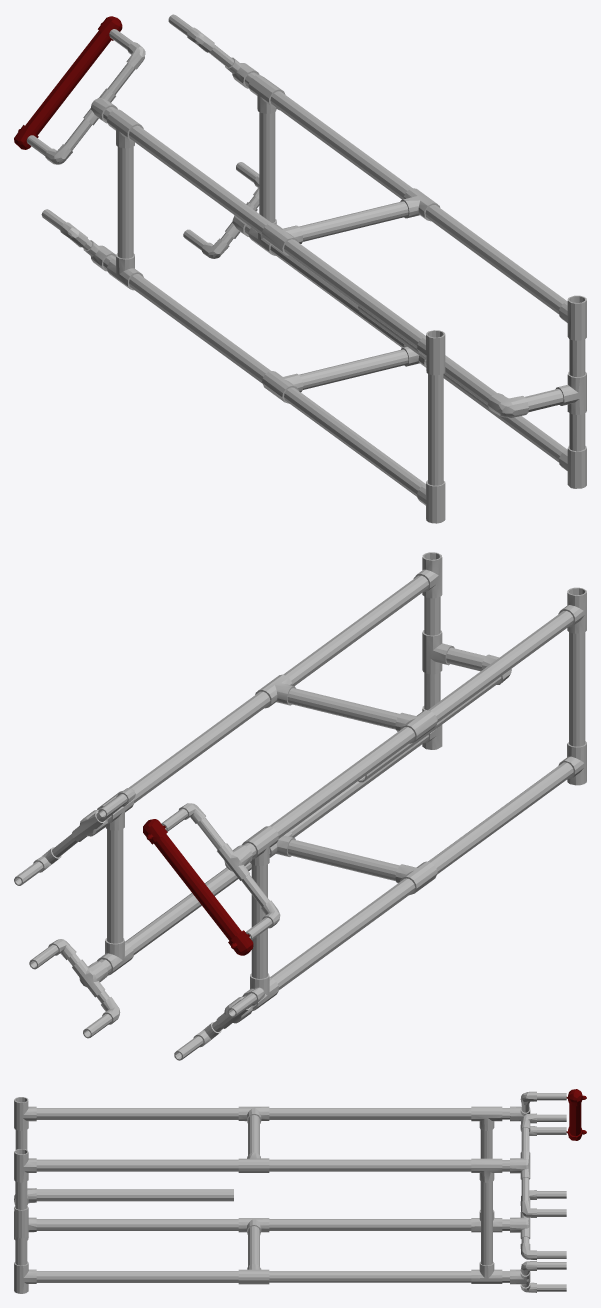
The model's file is tower-red.obj.
The picture shows the model from 3 angles, top to bottom: view 1: azimuth 30°, elevation 25°; view 2: azimuth 150°, elevation 25°; view 3: azimuth 270°, elevation 25°; orthographic projection. The views are drawn at different scales.
Parts seen in each view (by area): view 1: Just_Tower, Just_Red; view 2: Just_Tower, Just_Red; view 3: Just_Tower, Just_Red.
Part boxes in pixels (x1,y1,x2,y2): Just_Tower: (26,14,586,523); Just_Red: (14,16,122,149); Just_Tower: (14,552,586,1060); Just_Red: (143,819,253,955); Just_Tower: (14,1091,566,1293); Just_Red: (566,1089,586,1140).
Size of the model in its own units: 0.5749 by 0.5414 by 1.59.
